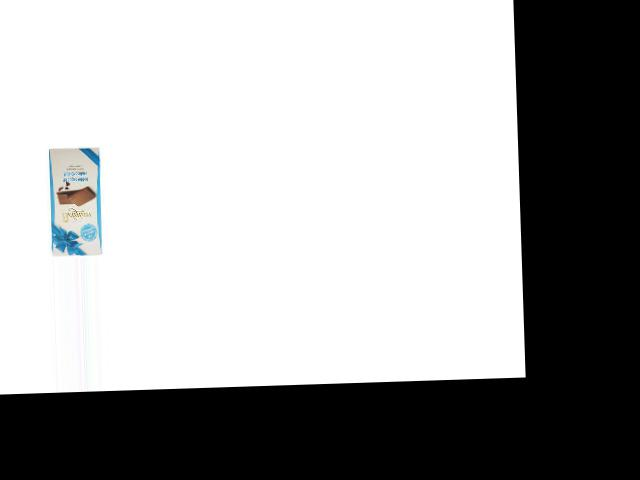chocolate: (41, 144, 107, 257)
